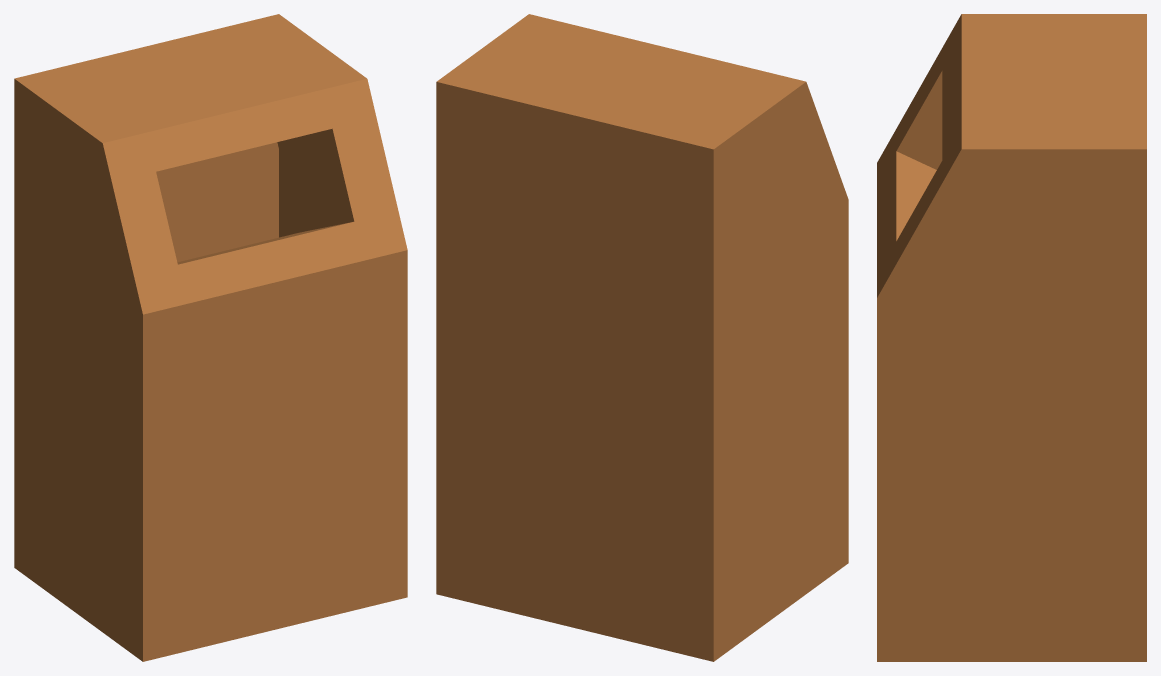
Rendered from bin_flammable.fbx.
3 renders of one model, left to right at view 1: azimuth 30°, elevation 25°; view 2: azimuth 150°, elevation 25°; view 3: azimuth 270°, elevation 25°, orthographic. The views are drawn at different scales.
Visible parts, largest first — view 1: binFlammable; view 2: binFlammable; view 3: binFlammable.
Part boxes in pixels (bbox=[...]): binFlammable: bbox=[14, 14, 407, 661]; binFlammable: bbox=[436, 14, 848, 661]; binFlammable: bbox=[877, 14, 1146, 661].
Size of the model in its own units: 62.65 by 111 by 52.76.
